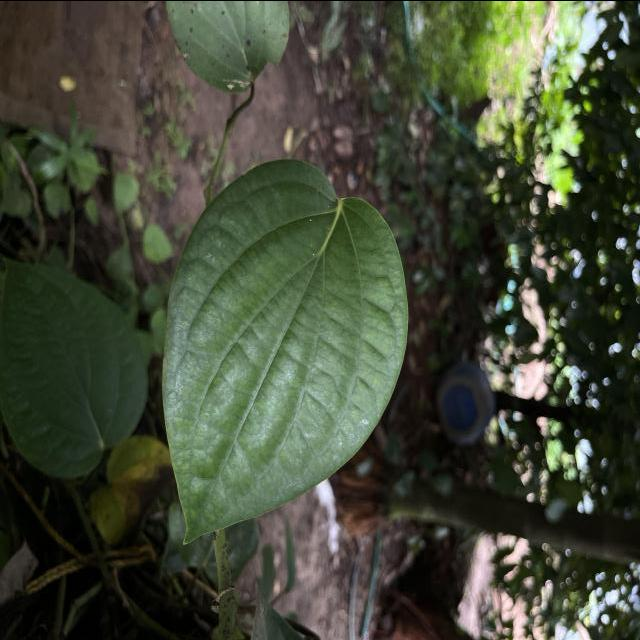Piper nigrum: (160, 156, 412, 546)
